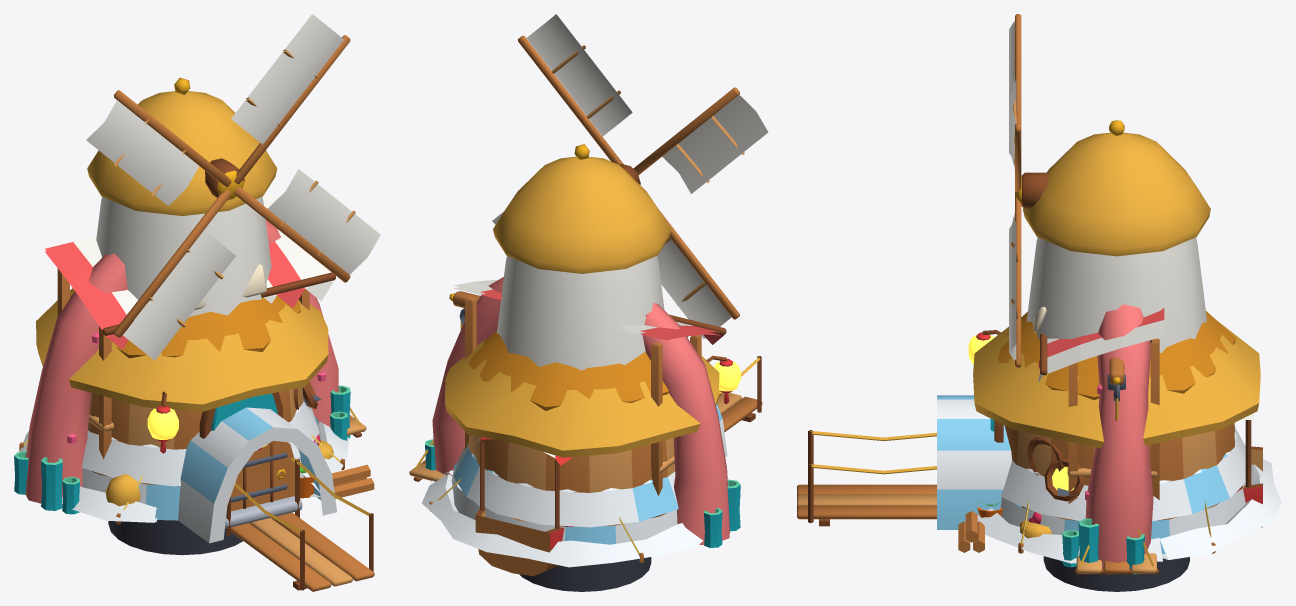
The model's file is props.glb.
3 views of the same model, side by side, from view 1: azimuth 30°, elevation 25°; view 2: azimuth 150°, elevation 25°; view 3: azimuth 270°, elevation 25° (orthographic). The views are drawn at different scales.
Visible parts, largest first — view 1: blades, hut, ice_hut, windmill, coral_arch, market, bao_plank, hatch; view 2: windmill, hut, ice_hut, blades, coral_arch, market, skiff, hatch, bao_plank, platform; view 3: windmill, hut, ice_hut, coral_arch, bao_plank, market, blades, hatch, platform, skiff, lift.
Boxes of the visible parts, x1,y1,x2,y2 form: blades: [86, 14, 380, 360]; hut: [36, 288, 328, 528]; ice_hut: [19, 382, 374, 543]; windmill: [87, 77, 277, 316]; coral_arch: [14, 219, 350, 514]; market: [45, 193, 335, 506]; bao_plank: [226, 457, 374, 591]; hatch: [108, 520, 242, 555]; windmill: [493, 144, 671, 370]; hut: [445, 330, 740, 525]; ice_hut: [421, 404, 741, 567]; blades: [492, 14, 768, 338]; coral_arch: [425, 277, 740, 547]; market: [454, 280, 726, 518]; skiff: [475, 437, 573, 576]; hatch: [519, 557, 651, 591]; bao_plank: [717, 356, 762, 431]; platform: [409, 439, 445, 481]; windmill: [1022, 120, 1210, 352]; hut: [968, 311, 1260, 520]; ice_hut: [937, 395, 1281, 563]; coral_arch: [1062, 304, 1153, 574]; bao_plank: [797, 430, 936, 526]; market: [1020, 307, 1164, 538]; blades: [1009, 14, 1021, 367]; hatch: [1043, 556, 1189, 591]; platform: [1075, 529, 1158, 574]; skiff: [1236, 413, 1262, 527]; lift: [1107, 357, 1125, 401].
Bounding box in the file's own units: 4.02 × 6.31 × 5.31.
